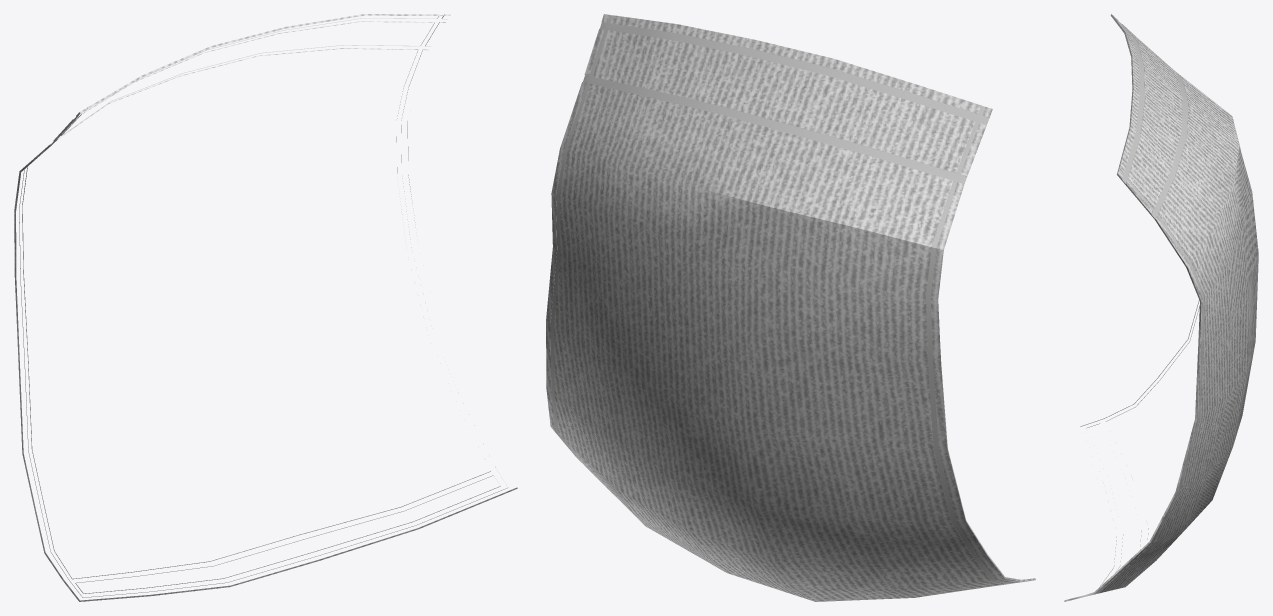
The model's file is Decor_Hood_Back.glb.
3 views of the same model, side by side, from view 1: azimuth 30°, elevation 25°; view 2: azimuth 150°, elevation 25°; view 3: azimuth 270°, elevation 25° (orthographic). The views are drawn at different scales.
Visible parts, largest first — view 1: Decor_Hood_Back1, Rope1; view 2: Decor_Hood_Back1, Rope1; view 3: Decor_Hood_Back1, Rope1.
Part boxes in pixels (box(x1,y1,x2,y2)): Decor_Hood_Back1: box(14, 14, 517, 601); Rope1: box(19, 15, 507, 597); Decor_Hood_Back1: box(546, 14, 1035, 601); Rope1: box(550, 15, 1017, 583); Decor_Hood_Back1: box(1064, 14, 1258, 601); Rope1: box(1086, 16, 1204, 593).
Bounding box in the file's own units: 0.2033 × 0.2368 × 0.0876.
2 materials, 2 textured.
